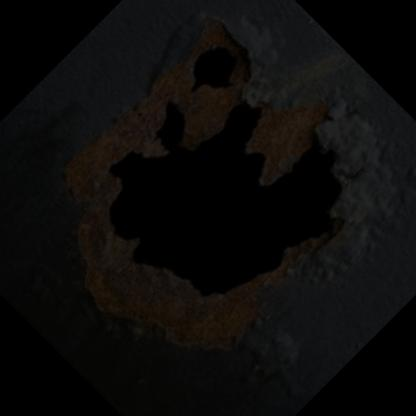burst: (107, 40, 352, 338)
